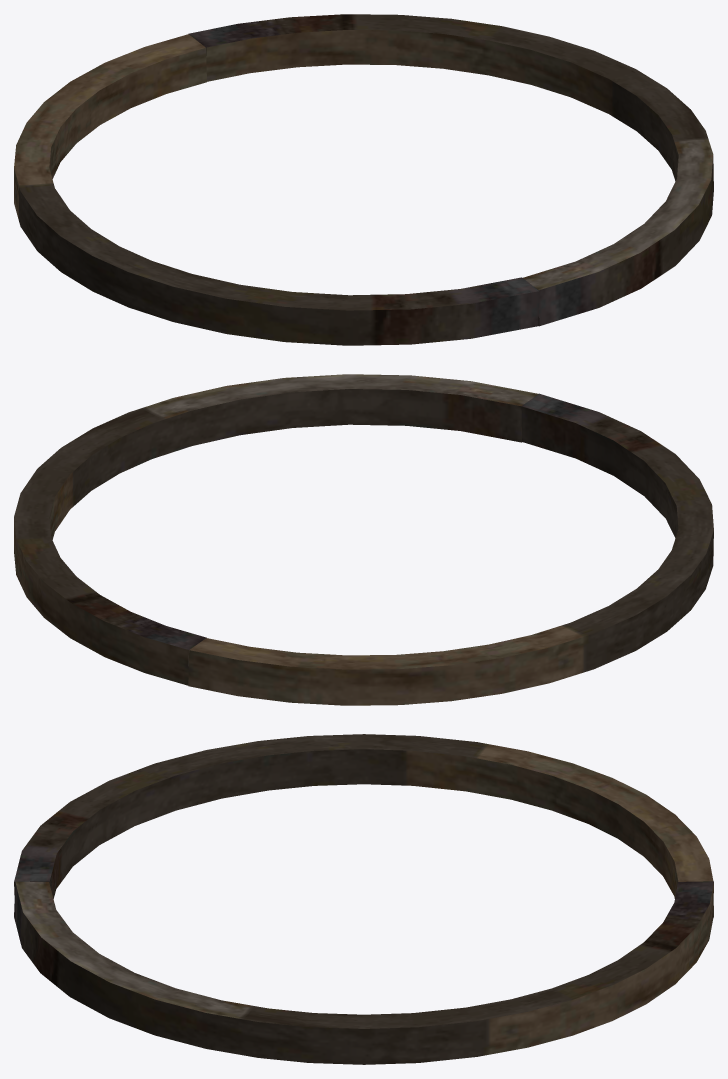
File: Hurdels_00.fbx
3 views of the same model, one above another, from view 1: azimuth 30°, elevation 25°; view 2: azimuth 150°, elevation 25°; view 3: azimuth 270°, elevation 25° (orthographic).
Parts seen in each view (by area): view 1: polySurface457:polySurface457_1; view 2: polySurface457:polySurface457_1; view 3: polySurface457:polySurface457_1.
Part boxes in pixels (x1=…): polySurface457:polySurface457_1: x1=14, y1=14, x2=713, y2=345; polySurface457:polySurface457_1: x1=14, y1=374, x2=713, y2=705; polySurface457:polySurface457_1: x1=14, y1=734, x2=713, y2=1064.
Size of what is drawn, in the model's own units: 3.84 by 0.2195 by 3.85.
1 material, 1 textured.
